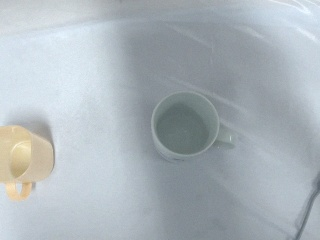cup: (149, 89, 235, 161), (1, 123, 56, 202)
